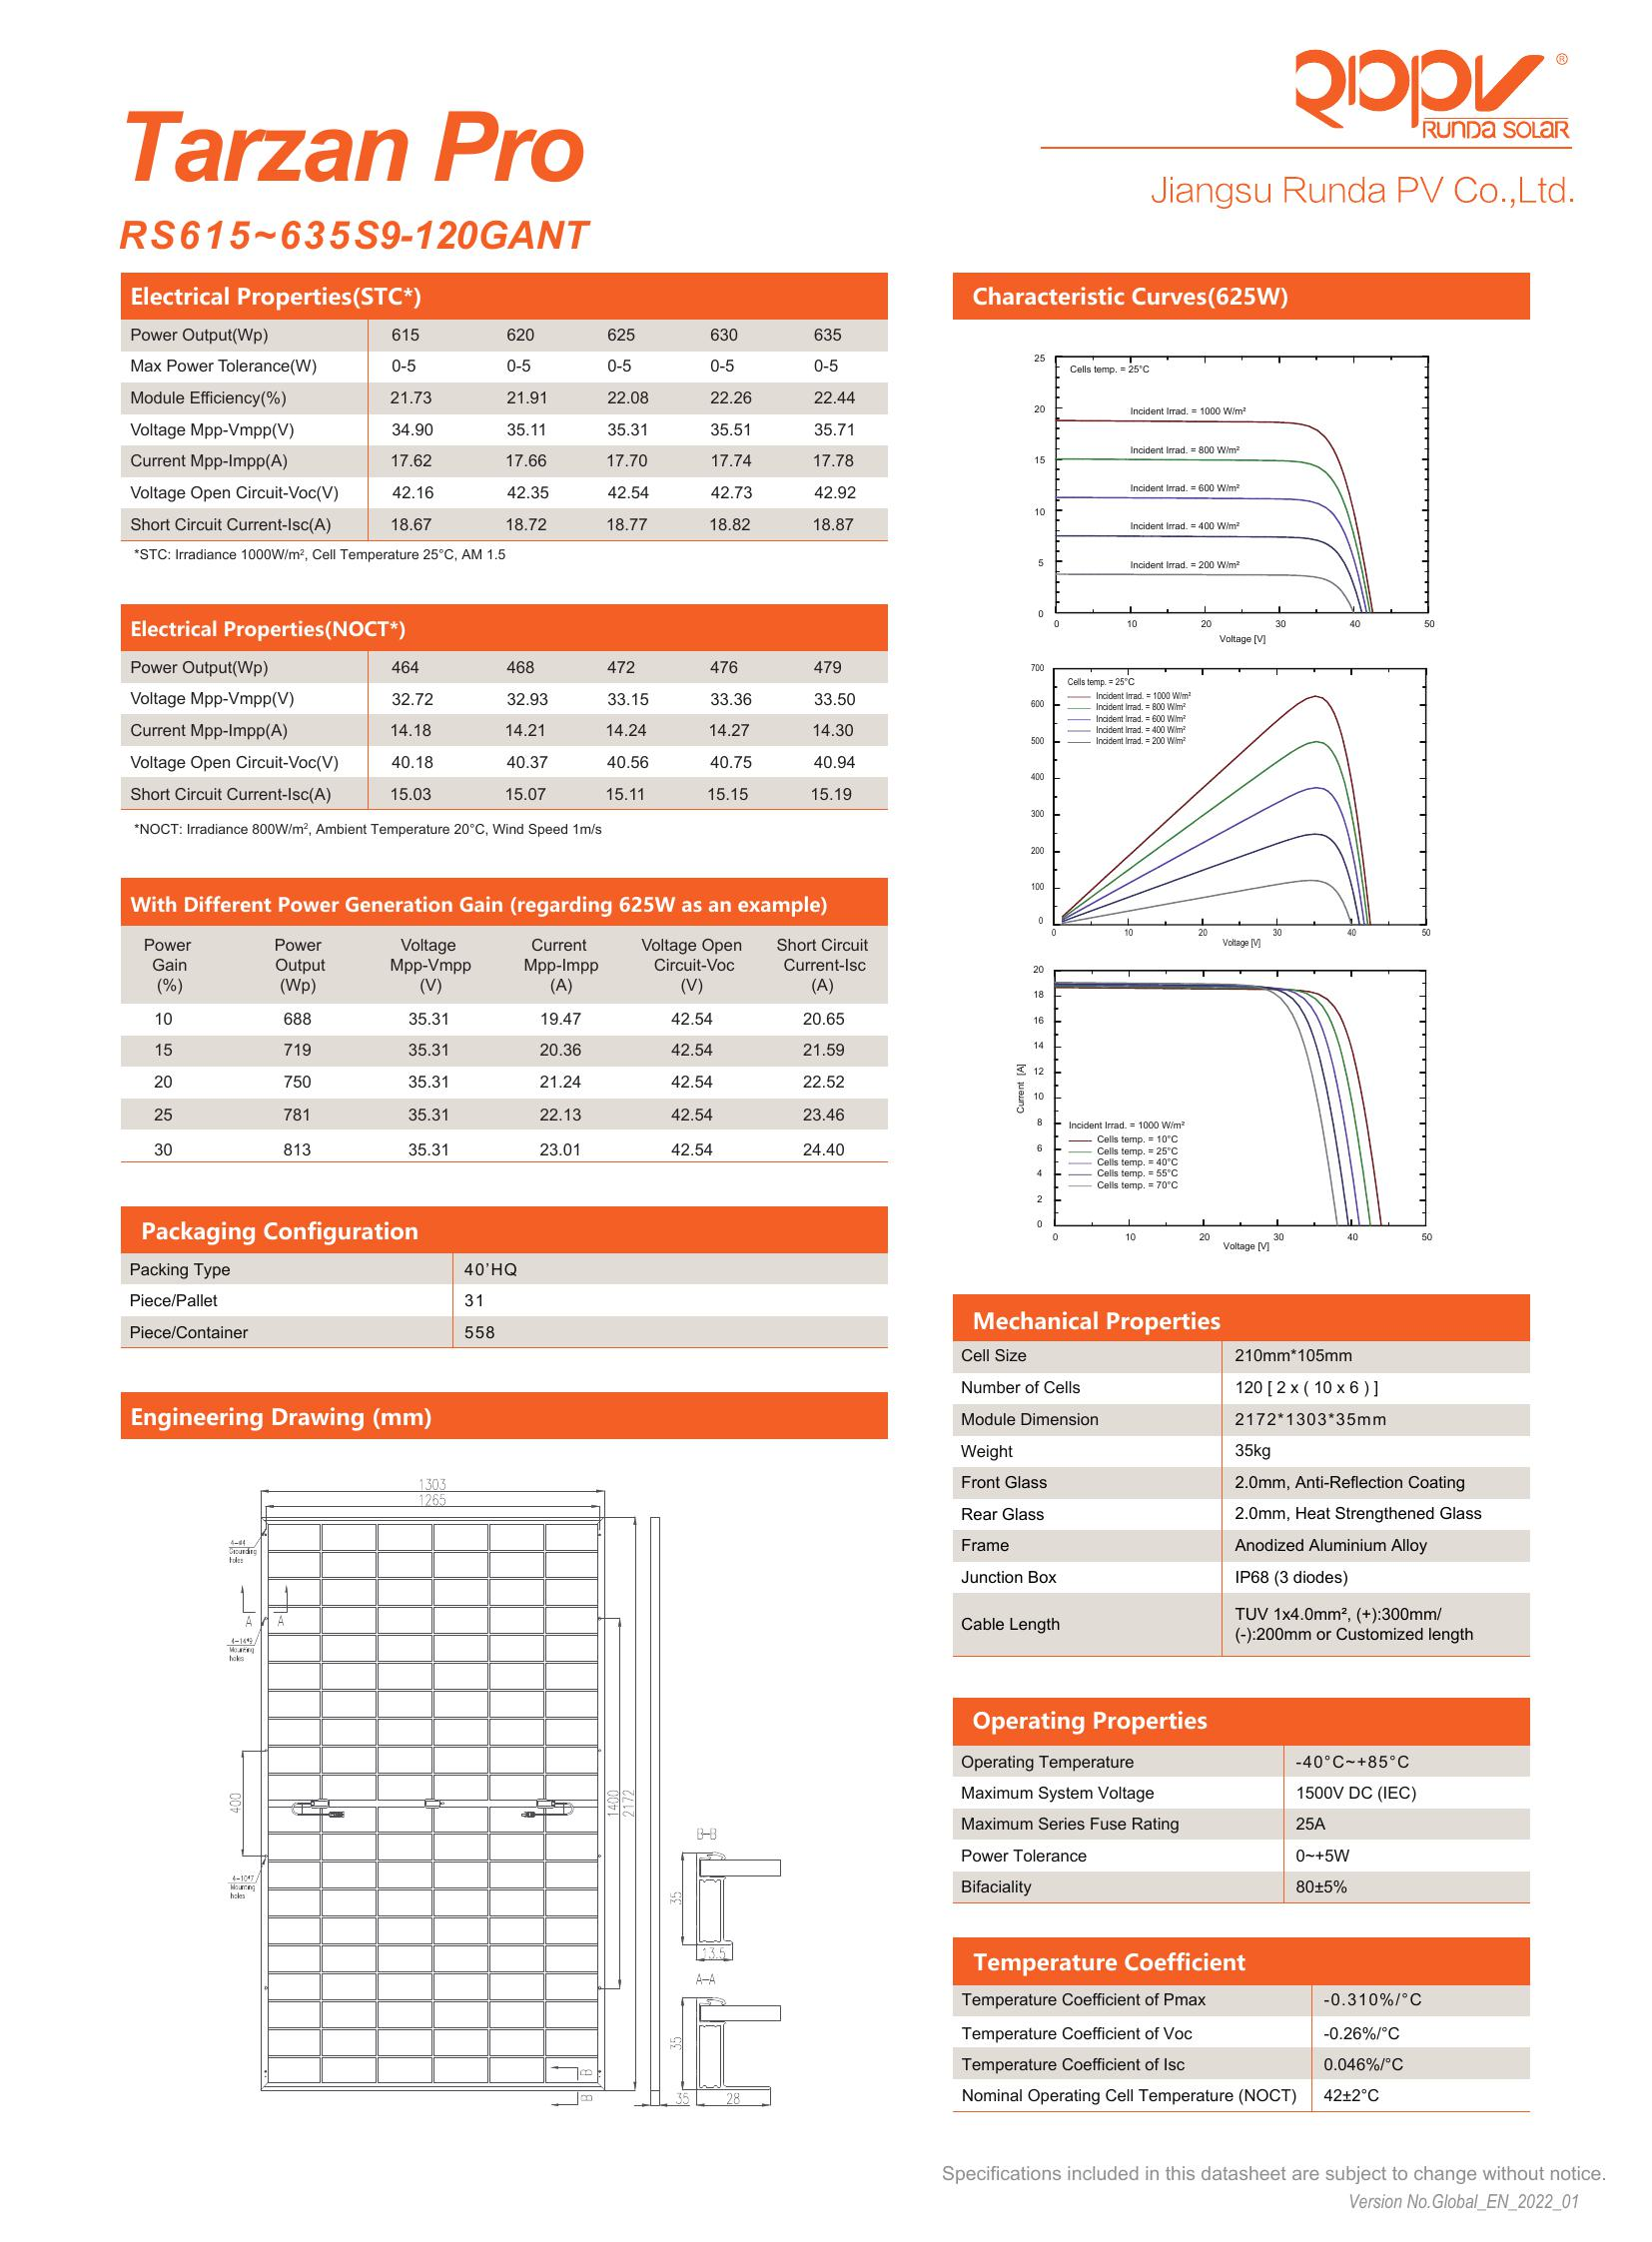table: (106, 322, 898, 564), (113, 931, 903, 1173), (949, 1344, 1541, 1664), (113, 653, 902, 844), (952, 1749, 1535, 1911), (113, 1255, 898, 1356), (947, 1986, 1544, 2118)
